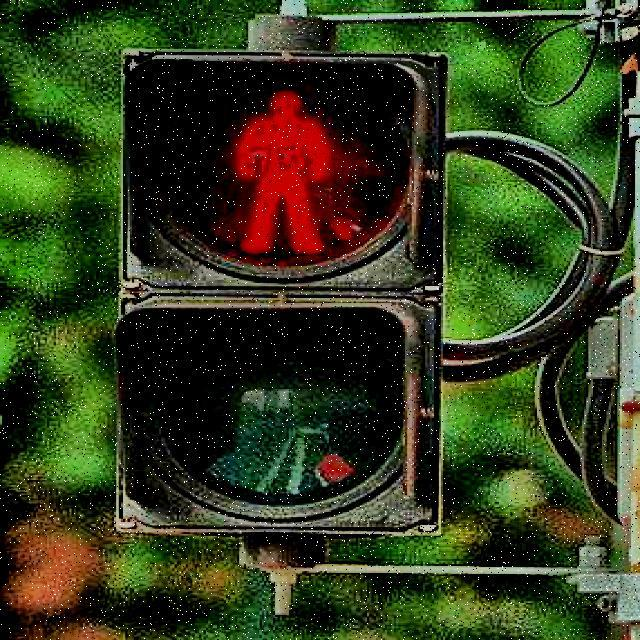red_light: (222, 85, 334, 258)
